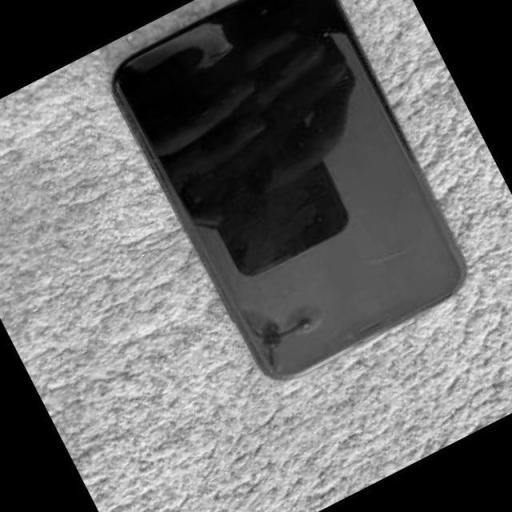phone: (111, 3, 475, 396)
